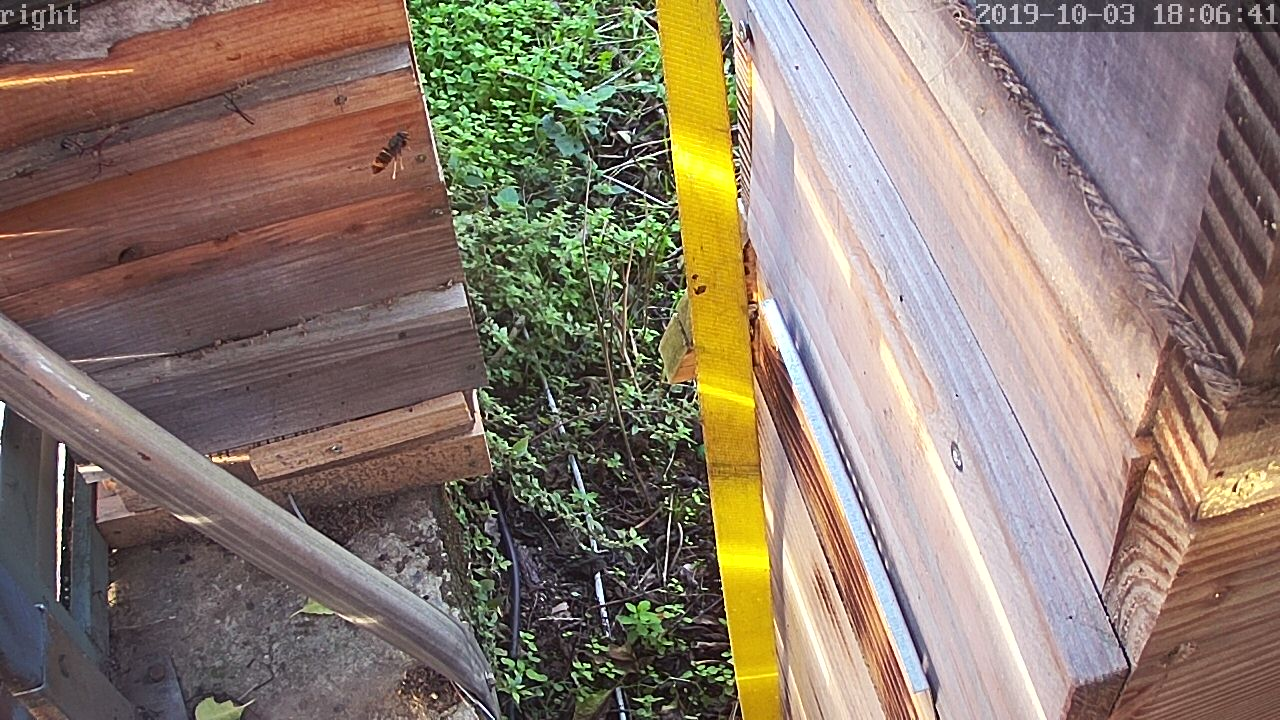hornet: (368, 127, 409, 180)
